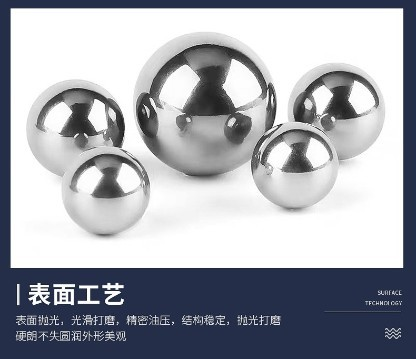ironball: (132, 31, 276, 176), (286, 61, 384, 161), (25, 78, 124, 176), (60, 145, 150, 235), (250, 121, 339, 209)
